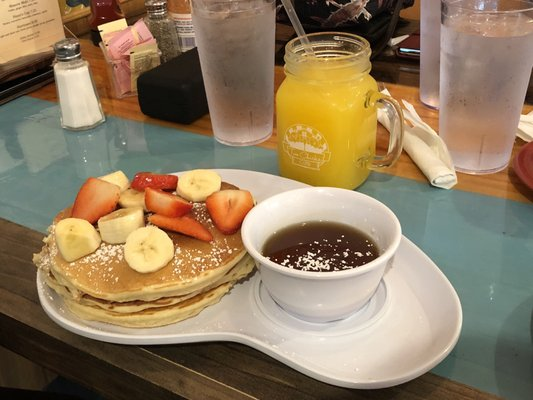pasta: (124, 225, 175, 274), (175, 169, 222, 202)
pizza: (436, 0, 533, 176), (190, 1, 278, 148), (419, 0, 444, 110)
sushi: (241, 186, 405, 324)
